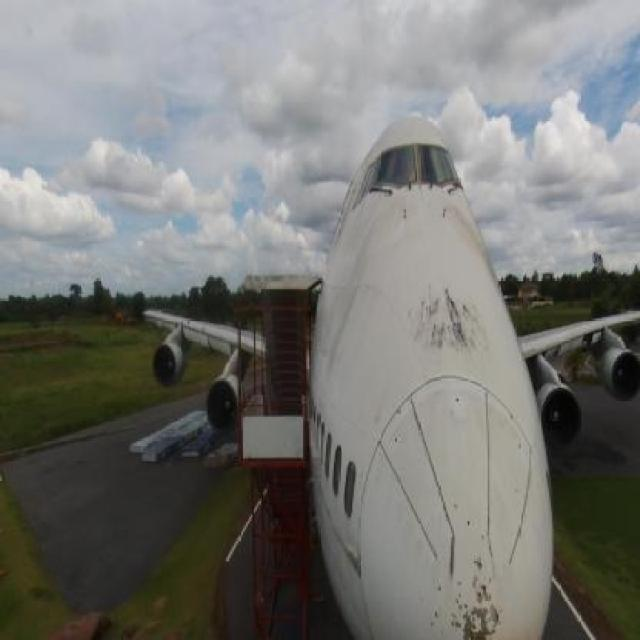Rust: (410, 279, 492, 372), (447, 209, 487, 262)
Scartch: (329, 206, 376, 377), (438, 566, 509, 640), (341, 542, 372, 589)
